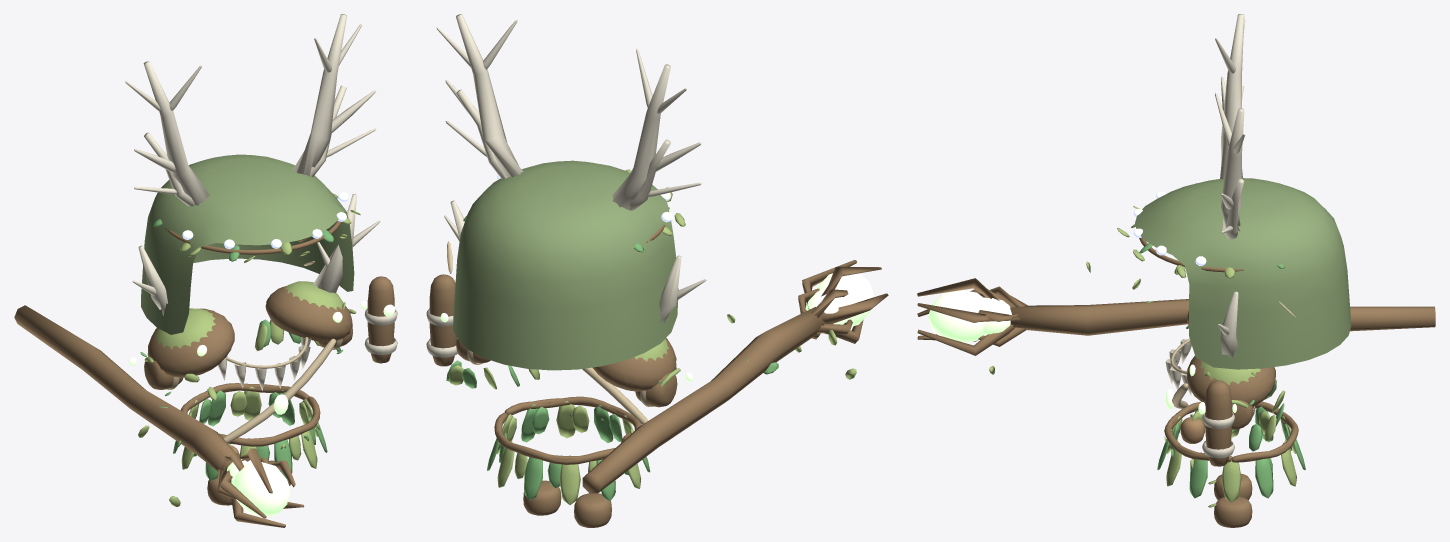
File: Gear_Druid.glb
3 renders of one model, left to right at view 1: azimuth 30°, elevation 25°; view 2: azimuth 150°, elevation 25°; view 3: azimuth 270°, elevation 25°, orthographic. The views are drawn at different scales.
Parts seen in each view (by area): view 1: D_Head_Hood, D_Shoulders_Antler, D_Weapon_ElderStaff, D_Head_Antlers, D_Weapon_SeedStaff, D_Legs_LeafKilt_hips, D_Offhand_Totem, D_Head_BoneWreath, D_Feet_LeafSkirt, D_Chest_FangMantle_chest, D_Waist_VineBelt_spine, D_Chest_FangMantle_spine (+5 smaller); view 2: D_Head_Hood, D_Weapon_SeedStaff, D_Head_Antlers, D_Weapon_ElderStaff, D_Legs_LeafKilt_hips, D_Shoulders_Antler, D_Feet_LeafSkirt, D_Offhand_Totem, D_Waist_VineBelt_spine, D_Head_BoneWreath, D_Legs_LeafKilt_lowerleg_r, D_Legs_LeafKilt_lowerleg_l (+2 smaller); view 3: D_Head_Hood, D_Weapon_ElderStaff, D_Head_Antlers, D_Weapon_SeedStaff, D_Shoulders_Antler, D_Legs_LeafKilt_hips, D_Offhand_Totem, D_Waist_VineBelt_spine, D_Chest_FangMantle_chest, D_Legs_LeafKilt_lowerleg_l, D_Feet_LeafSkirt, D_Head_BoneWreath (+1 smaller).
Part boxes in pixels (x1,y1,x2,y2): D_Head_Hood: [141, 154, 360, 334]; D_Shoulders_Antler: [132, 194, 380, 377]; D_Weapon_ElderStaff: [16, 309, 304, 527]; D_Head_Antlers: [125, 14, 375, 254]; D_Weapon_SeedStaff: [14, 305, 268, 499]; D_Legs_LeafKilt_hips: [173, 386, 327, 480]; D_Offhand_Totem: [364, 276, 397, 363]; D_Head_BoneWreath: [134, 85, 375, 260]; D_Feet_LeafSkirt: [187, 384, 318, 462]; D_Chest_FangMantle_chest: [218, 237, 340, 390]; D_Waist_VineBelt_spine: [180, 383, 320, 449]; D_Chest_FangMantle_spine: [223, 338, 336, 442]; D_Head_Hood: [453, 160, 685, 370]; D_Weapon_SeedStaff: [584, 288, 852, 493]; D_Head_Antlers: [436, 14, 701, 252]; D_Weapon_ElderStaff: [582, 260, 888, 492]; D_Legs_LeafKilt_hips: [487, 401, 650, 504]; D_Shoulders_Antler: [444, 200, 706, 391]; D_Feet_LeafSkirt: [497, 398, 633, 488]; D_Offhand_Totem: [426, 274, 457, 366]; D_Waist_VineBelt_spine: [494, 396, 641, 464]; D_Head_BoneWreath: [445, 89, 701, 251]; D_Legs_LeafKilt_lowerleg_r: [574, 493, 611, 527]; D_Legs_LeafKilt_lowerleg_l: [523, 480, 561, 515]; D_Head_Hood: [1117, 178, 1351, 369]; D_Weapon_ElderStaff: [917, 261, 1435, 374]; D_Head_Antlers: [1132, 14, 1245, 271]; D_Weapon_SeedStaff: [978, 286, 1435, 346]; D_Shoulders_Antler: [1187, 291, 1275, 406]; D_Legs_LeafKilt_hips: [1157, 406, 1305, 502]; D_Offhand_Totem: [1198, 380, 1234, 466]; D_Waist_VineBelt_spine: [1164, 401, 1298, 468]; D_Chest_FangMantle_chest: [1165, 301, 1296, 451]; D_Legs_LeafKilt_lowerleg_l: [1208, 496, 1252, 527]; D_Feet_LeafSkirt: [1166, 407, 1294, 471]; D_Head_BoneWreath: [1132, 85, 1284, 273].
Size of the model in its own units: 2.28 by 3.08 by 3.21.
